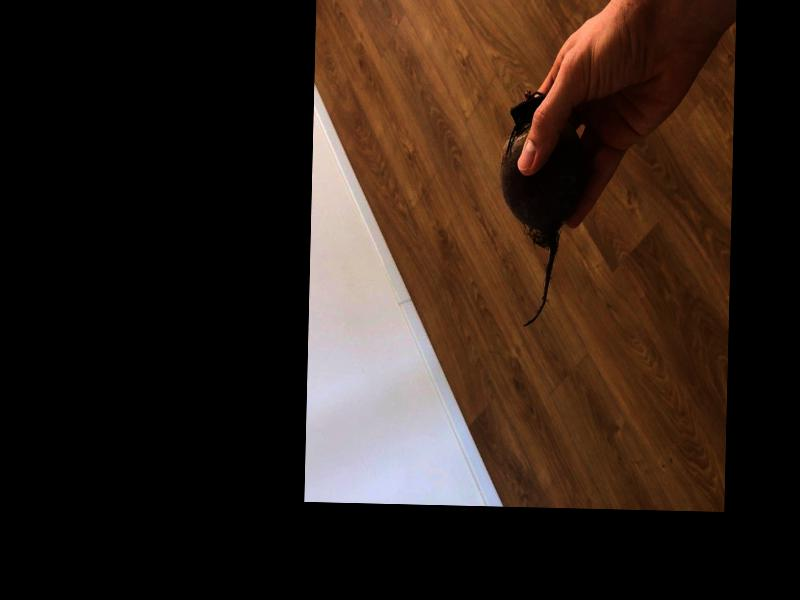Beet: (497, 91, 587, 328)
